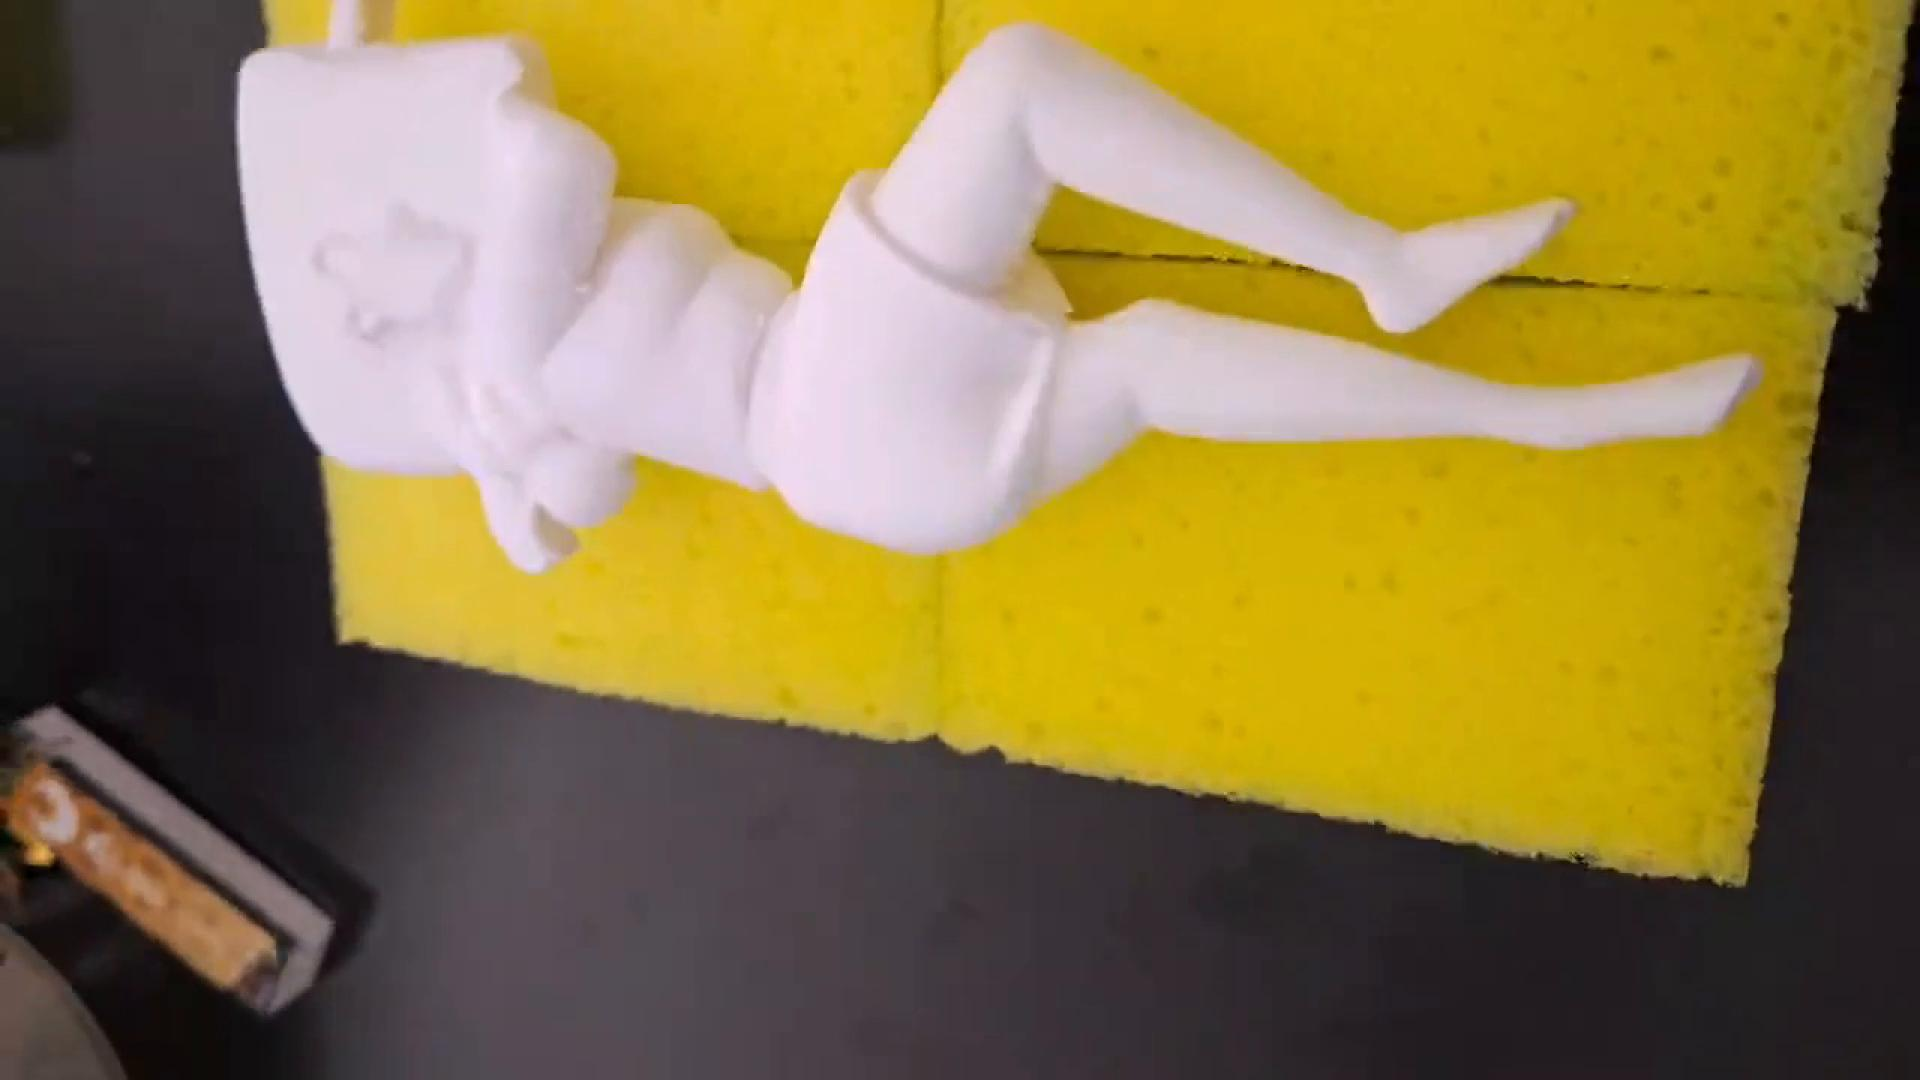Good-style: (228, 0, 1747, 570)
